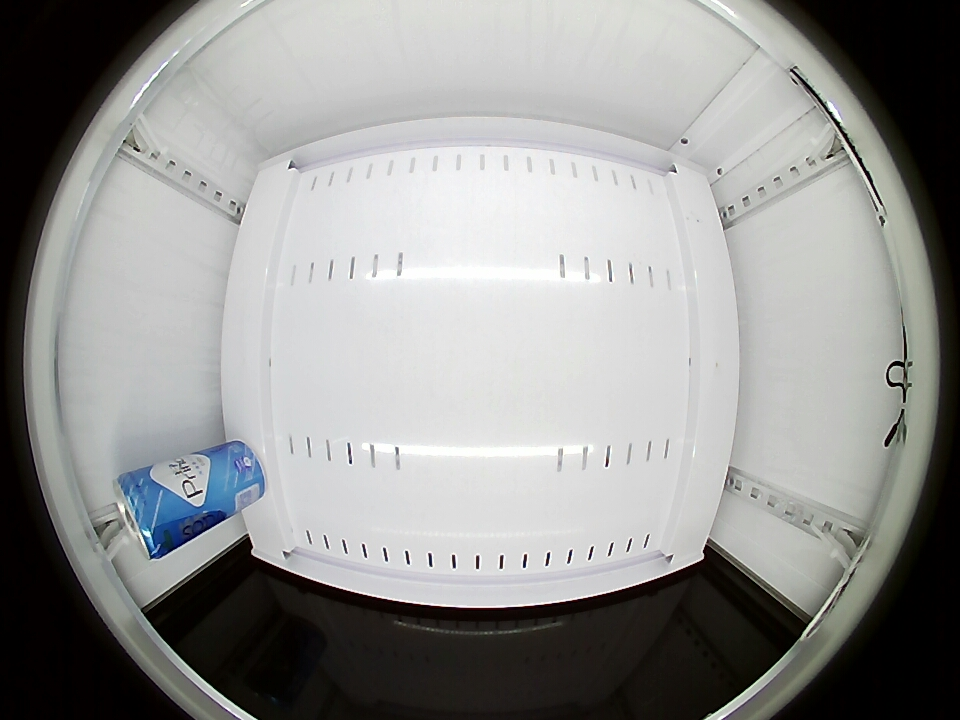qingdaowangzi-2: (114, 464, 183, 559)
